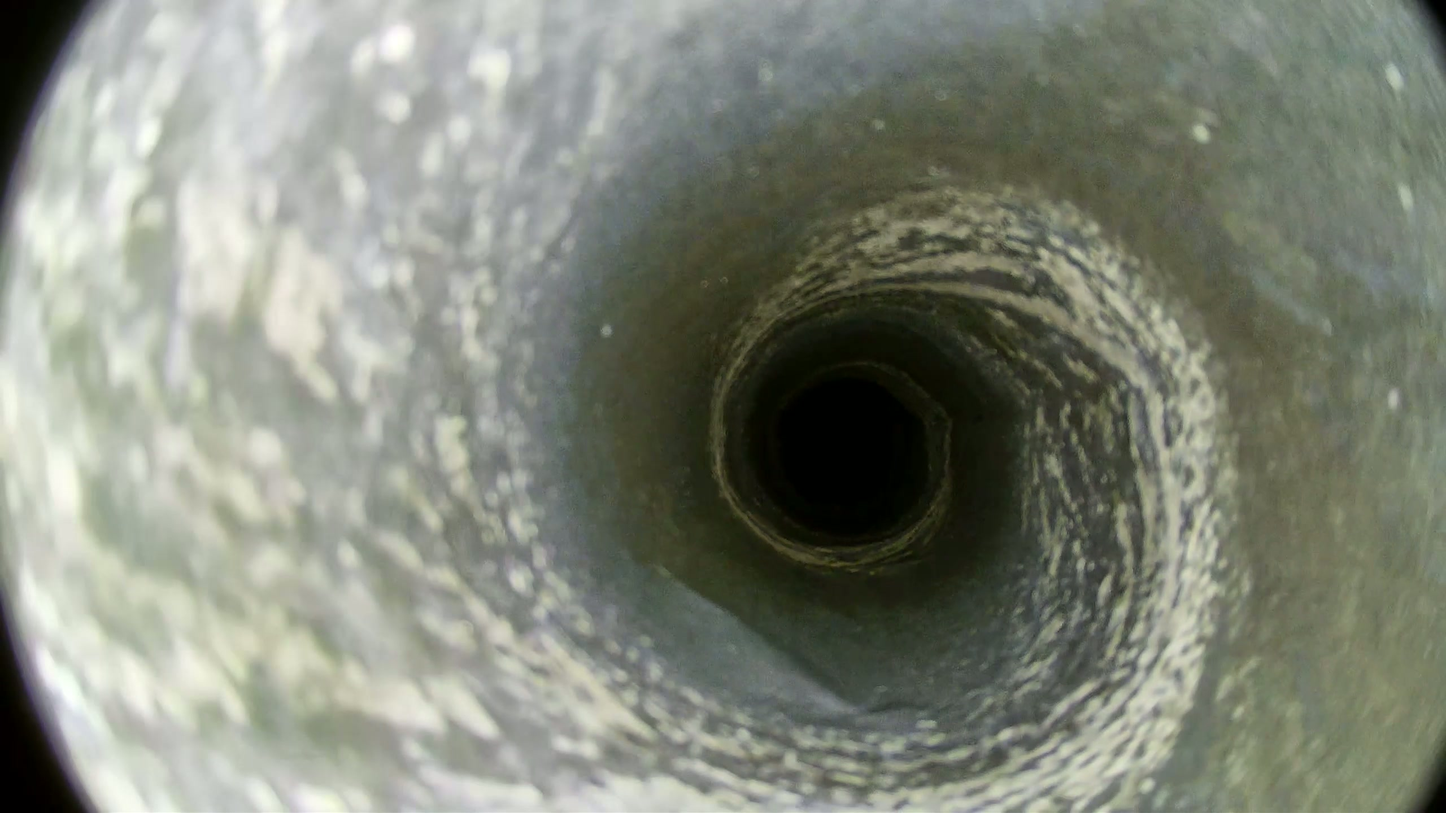hole: (781, 384, 897, 506)
